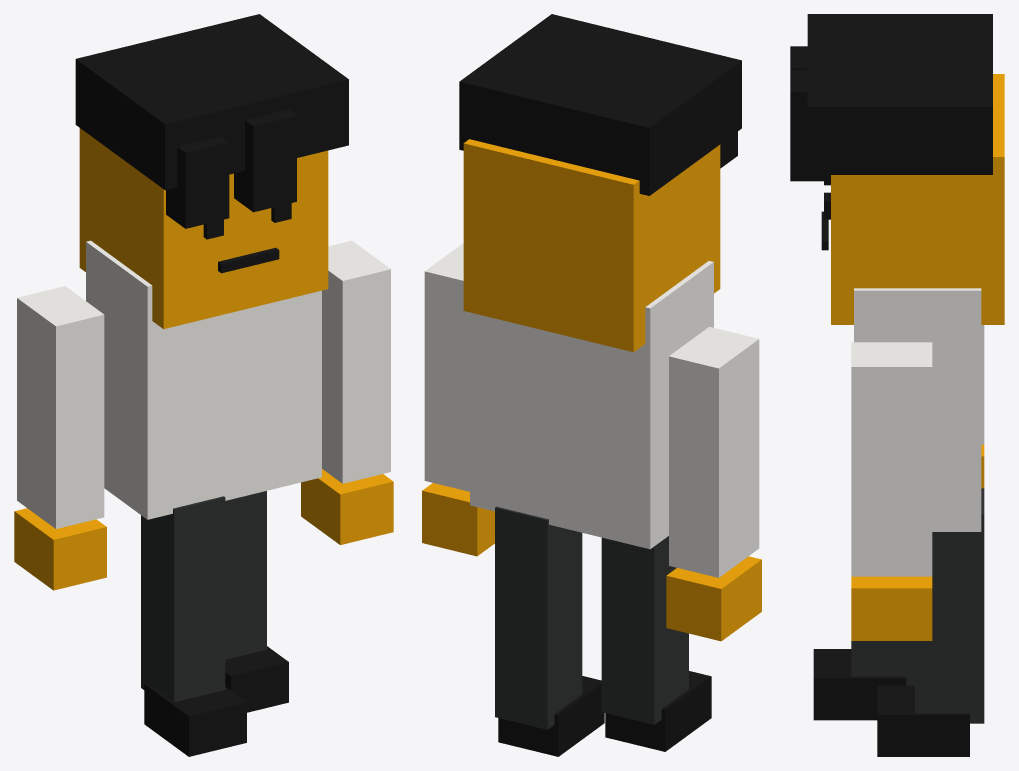
File: person_walking.glb
The picture shows the model from 3 angles, left to right: view 1: azimuth 30°, elevation 25°; view 2: azimuth 150°, elevation 25°; view 3: azimuth 270°, elevation 25°; orthographic projection. The views are drawn at different scales.
Parts seen in each view (by area): view 1: walking torso white hoodie, walking hair block, walking person head, walking left arm, walking left leg, walking right arm, walking right leg, walking left hand, walking left shoe, walking right hand, walking hair fringe 2, walking hair fringe 1 (+2 smaller); view 2: walking torso white hoodie, walking person head, walking hair block, walking left arm, walking right leg, walking left leg, walking right arm, walking left hand, walking right hand, walking left shoe, walking right shoe; view 3: walking hair block, walking person head, walking right arm, walking torso white hoodie, walking right leg, walking right hand, walking right shoe, walking left shoe, walking left leg, walking hair fringe 2, walking left arm, walking hair fringe 1.
Part boxes in pixels (x1,y1,x2,y2): walking torso white hoodie: (86, 240, 321, 519); walking hair block: (75, 14, 348, 190); walking person head: (79, 128, 328, 329); walking left arm: (17, 286, 104, 528); walking left leg: (141, 496, 225, 701); walking right arm: (322, 240, 390, 483); walking right leg: (225, 491, 266, 659); walking left hand: (14, 508, 106, 590); walking left shoe: (144, 683, 246, 756); walking right hand: (301, 469, 393, 544); walking hair fringe 2: (234, 109, 296, 212); walking hair fringe 1: (166, 136, 229, 228); walking torso white hoodie: (470, 261, 713, 549); walking person head: (463, 139, 720, 352); walking hair block: (459, 14, 741, 195); walking left arm: (669, 327, 759, 577); walking right leg: (495, 506, 582, 729); walking left leg: (601, 536, 688, 724); walking right arm: (424, 243, 469, 491); walking left hand: (666, 556, 761, 641); walking right hand: (422, 483, 494, 556); walking left shoe: (605, 671, 711, 751); walking right shoe: (498, 676, 604, 756); walking hair block: (807, 14, 992, 174); walking person head: (831, 74, 1004, 324); walking right arm: (851, 342, 932, 576); walking torso white hoodie: (854, 288, 981, 531); walking right leg: (915, 488, 984, 723); walking right hand: (851, 576, 932, 640); walking right shoe: (877, 685, 969, 756); walking left shoe: (813, 649, 906, 720); walking left leg: (851, 641, 914, 685); walking hair fringe 2: (790, 70, 830, 181); walking left arm: (981, 325, 984, 444); walking hair fringe 1: (790, 46, 807, 69).
Bounding box in the file's own units: 0.65 × 1.27 × 0.37.
